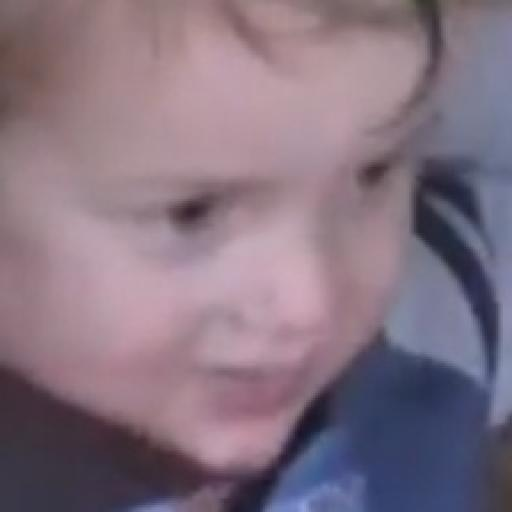Autism: (60, 1, 512, 492)
